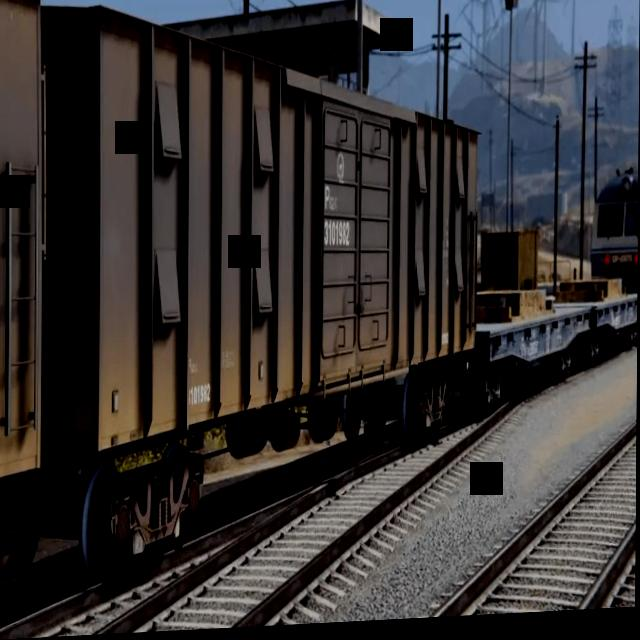boxcar: (46, 0, 484, 615)
cargo: (477, 229, 560, 330), (555, 281, 626, 308)
flatcar: (479, 311, 593, 416), (594, 299, 638, 375)
locomotive: (589, 168, 639, 304)
